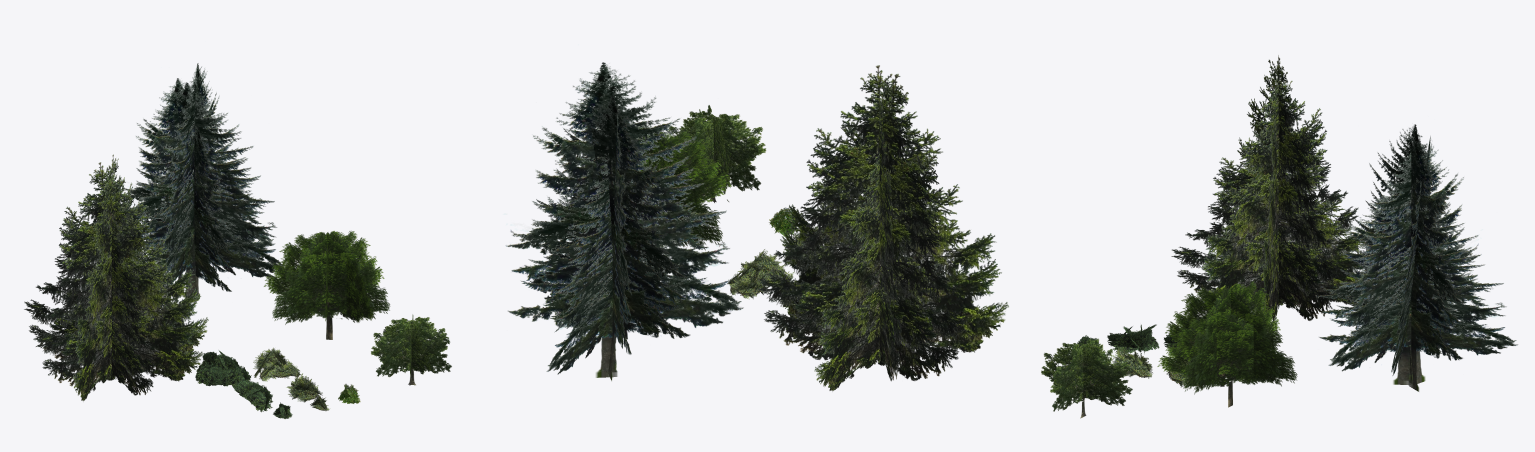
The model's file is plantpack.glb.
3 renders of one model, left to right at view 1: azimuth 30°, elevation 25°; view 2: azimuth 150°, elevation 25°; view 3: azimuth 270°, elevation 25°, orthographic. The views are drawn at different scales.
Visible parts, largest first — view 1: pine1_pine2_0, Pine2_pine3_0, tree2_tree2_0, TreeSmall_tree3_0, BushMed_bushType1_0, BushBig2_bush2_0; view 2: pine1_pine2_0, Pine2_pine3_0, tree2_tree2_0, TreeSmall_tree3_0, BushBig2_bush2_0, Pine2_Trunk_0, BushFlowerSmall_bushflower_0; view 3: pine1_pine2_0, Pine2_pine3_0, tree2_tree2_0, TreeSmall_tree3_0, BushMed_bushType1_0, BushBig2_bush2_0, Pine2_Trunk_0.
Boxes of the visible parts, x1,y1,x2,y2 form: pine1_pine2_0: (24, 154, 208, 401); Pine2_pine3_0: (123, 63, 284, 296); tree2_tree2_0: (264, 231, 390, 339); TreeSmall_tree3_0: (371, 314, 451, 385); BushMed_bushType1_0: (195, 350, 292, 418); BushBig2_bush2_0: (253, 347, 329, 410); pine1_pine2_0: (757, 65, 1008, 391); Pine2_pine3_0: (505, 62, 743, 374); tree2_tree2_0: (581, 124, 731, 250); TreeSmall_tree3_0: (668, 105, 766, 202); BushBig2_bush2_0: (727, 226, 827, 299); Pine2_Trunk_0: (596, 338, 617, 380); BushFlowerSmall_bushflower_0: (769, 207, 796, 236); pine1_pine2_0: (1171, 55, 1367, 324); Pine2_pine3_0: (1317, 124, 1517, 375); tree2_tree2_0: (1157, 280, 1297, 407); TreeSmall_tree3_0: (1041, 338, 1132, 418); BushMed_bushType1_0: (1077, 317, 1203, 354); BushBig2_bush2_0: (1110, 346, 1198, 387); Pine2_Trunk_0: (1393, 351, 1477, 391).
Size of the model in its own units: 63.05 by 49.75 by 68.04.
8 materials, 8 textured.
